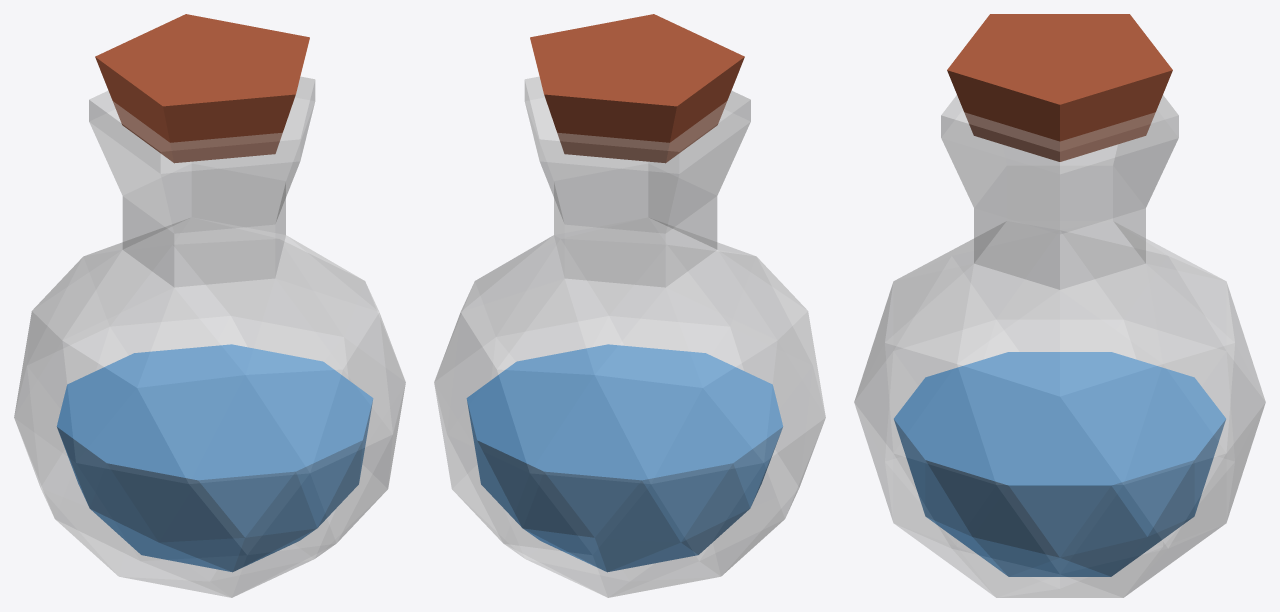
File: pocionStamina.fbx
The picture shows the model from 3 angles, left to right: view 1: azimuth 30°, elevation 25°; view 2: azimuth 150°, elevation 25°; view 3: azimuth 270°, elevation 25°; orthographic projection. The views are drawn at different scales.
Parts seen in each view (by area): view 1: Botella, Liquido, Corcho; view 2: Botella, Liquido, Corcho; view 3: Botella, Liquido, Corcho.
Boxes of the visible parts, <box> form: Botella: <box>14,76,405,597</box>; Liquido: <box>57,344,373,572</box>; Corcho: <box>95,14,309,163</box>; Botella: <box>434,76,825,597</box>; Liquido: <box>466,344,782,572</box>; Corcho: <box>530,14,744,163</box>; Botella: <box>854,95,1265,597</box>; Liquido: <box>894,352,1225,576</box>; Corcho: <box>947,14,1172,161</box>.
Size of the model in its own units: 66.22 by 99.68 by 69.63.
